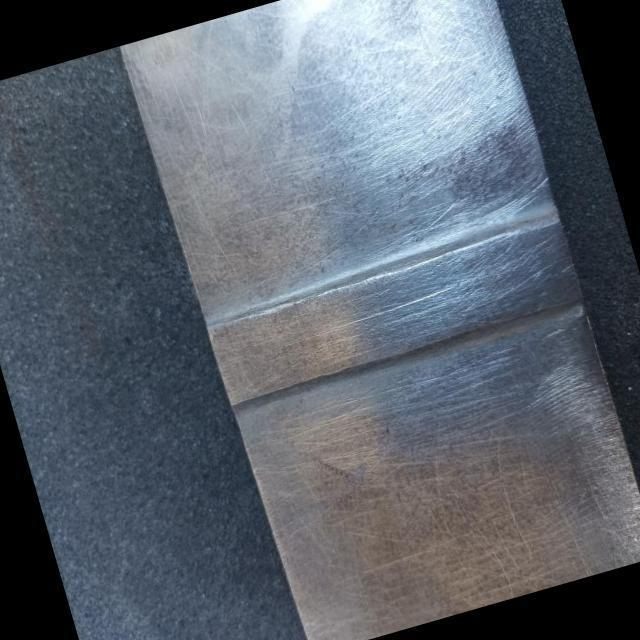defect: (327, 283, 453, 329)
